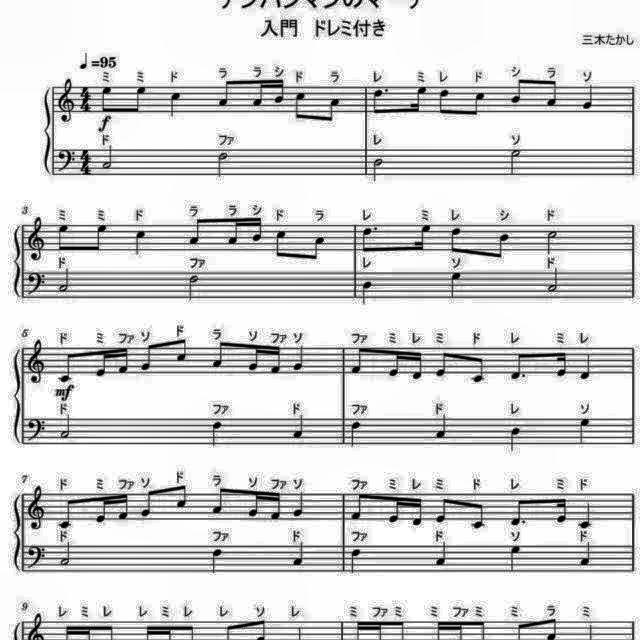Bass-clef: (25, 413, 49, 443), (26, 270, 48, 298), (57, 148, 79, 176), (26, 542, 48, 570)
Eighth-note: (56, 350, 78, 384), (186, 213, 208, 247), (57, 494, 77, 530), (507, 494, 528, 528), (307, 232, 329, 264), (321, 94, 343, 126), (491, 230, 513, 262), (466, 88, 488, 120), (507, 350, 529, 382), (358, 224, 380, 256), (88, 220, 109, 253), (131, 81, 151, 115), (272, 227, 292, 261), (290, 88, 310, 120), (467, 501, 487, 533), (370, 86, 390, 118), (214, 78, 234, 110), (210, 340, 230, 372), (348, 490, 368, 522), (210, 486, 230, 518), (139, 486, 157, 520), (468, 352, 487, 384), (506, 76, 526, 106), (445, 223, 465, 253), (139, 341, 157, 374), (433, 493, 451, 525), (435, 84, 453, 116), (433, 348, 451, 380), (349, 344, 367, 376), (55, 222, 73, 254), (545, 78, 563, 109), (175, 338, 193, 367), (175, 483, 193, 512), (99, 84, 115, 116)
Half-note: (212, 150, 232, 178), (183, 273, 201, 303), (542, 228, 560, 256), (57, 267, 75, 295), (506, 146, 522, 176), (369, 156, 386, 184), (58, 540, 74, 568), (100, 144, 116, 172), (59, 414, 75, 442), (544, 266, 560, 294)
Quarter-note: (576, 501, 596, 532), (580, 83, 600, 113), (447, 270, 465, 302), (577, 417, 595, 447), (133, 227, 151, 257), (167, 89, 185, 119), (578, 351, 596, 381), (208, 547, 226, 577), (208, 419, 226, 449), (576, 540, 594, 568), (432, 540, 450, 568), (289, 540, 307, 568), (289, 412, 307, 440), (433, 412, 451, 440), (508, 544, 524, 574), (290, 489, 306, 518), (508, 423, 524, 452), (348, 419, 364, 448), (290, 344, 306, 372), (358, 278, 374, 306), (348, 548, 364, 576)
Sixteenth-note: (412, 220, 434, 252), (92, 492, 111, 526), (410, 82, 430, 114), (92, 346, 111, 379), (409, 496, 426, 530), (245, 488, 263, 520), (223, 217, 241, 249), (251, 76, 269, 108), (243, 342, 261, 373), (409, 348, 426, 380), (384, 494, 401, 526), (269, 344, 285, 376), (268, 492, 284, 524), (118, 345, 134, 377), (384, 348, 400, 379), (554, 496, 570, 526), (554, 348, 570, 378), (118, 492, 134, 522), (249, 218, 265, 246), (272, 79, 288, 107)
Treble-clef: (25, 215, 49, 265), (24, 484, 48, 532), (23, 338, 47, 386), (56, 76, 78, 124)
